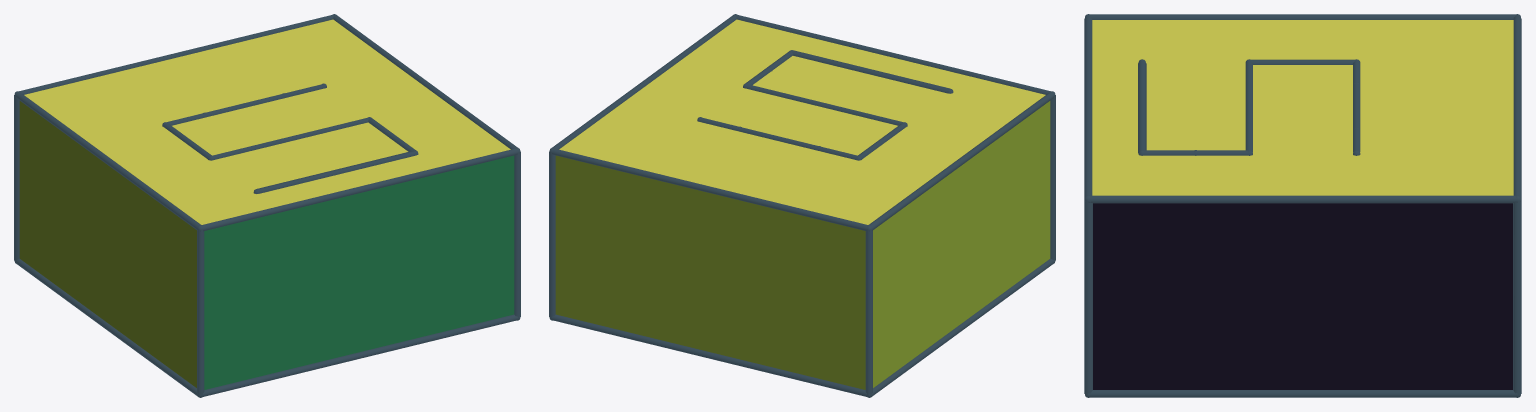
File: asset.glb
3 renders of one model, left to right at view 1: azimuth 30°, elevation 25°; view 2: azimuth 150°, elevation 25°; view 3: azimuth 270°, elevation 25°, orthographic. The views are drawn at different scales.
Visible parts, largest first — view 1: object 1, Bloom3D Lines; view 2: object 1, Bloom3D Lines; view 3: object 1, Bloom3D Lines.
Boxes of the visible parts, x1,y1,x2,y2 form: object 1: (19,19,514,389); Bloom3D Lines: (14,14,520,397); object 1: (555,19,1050,389); Bloom3D Lines: (549,14,1055,397); object 1: (1092,20,1513,389); Bloom3D Lines: (1084,14,1521,397).
Bounding box in the file's own units: 4.08 × 2.08 × 4.08.
